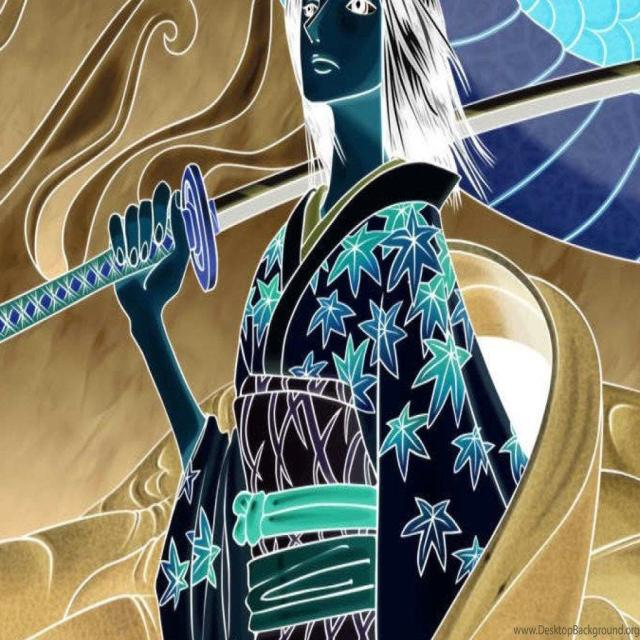Robin: (242, 0, 504, 468)
